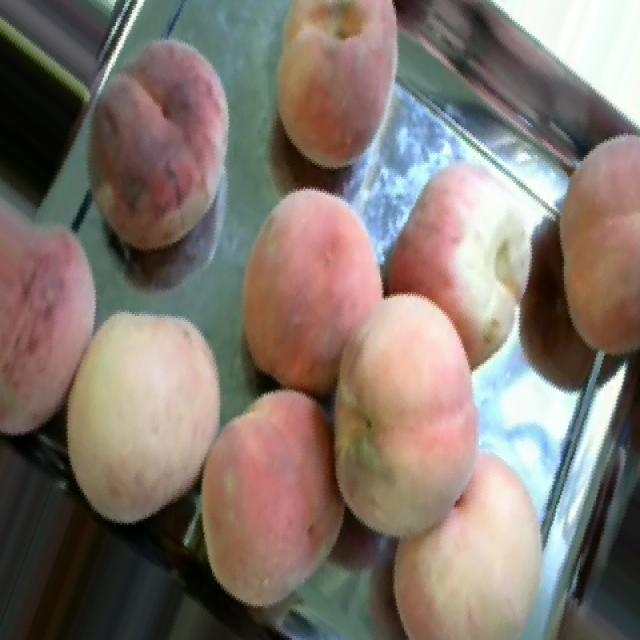Fruit: (296, 268, 509, 564), (24, 288, 256, 545), (161, 364, 371, 630), (56, 16, 253, 276), (218, 177, 406, 415), (376, 145, 557, 390), (363, 431, 568, 640), (1, 163, 136, 461), (520, 111, 640, 380), (253, 0, 419, 185)
